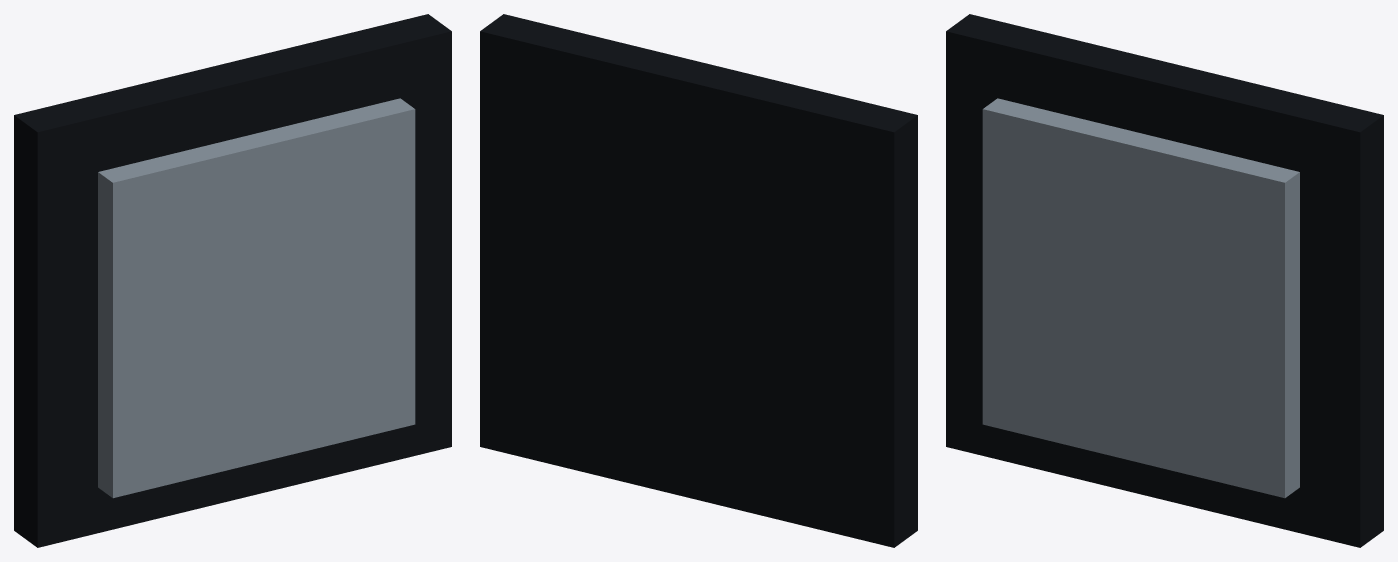
File: pc-cpu.glb
3 views of the same model, side by side, from view 1: azimuth 30°, elevation 25°; view 2: azimuth 150°, elevation 25°; view 3: azimuth 330°, elevation 25° (orthographic).
Parts seen in each view (by area): view 1: cpu (×2); view 2: cpu; view 3: cpu (×2).
Boxes of the visible parts, x1,y1,x2,y2 form: cpu (×2): [14, 14, 451, 547]; cpu: [480, 14, 917, 547]; cpu (×2): [946, 14, 1383, 547].
Bounding box in the file's own units: 0.8658 × 0.83 × 0.1551.
